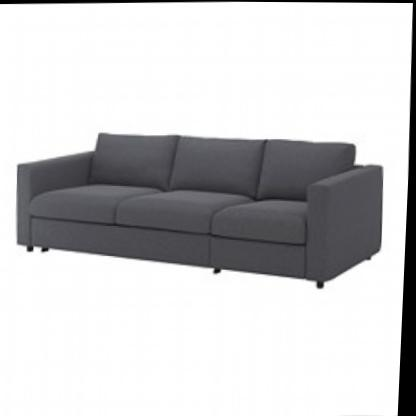Sofa: (7, 113, 388, 293)
